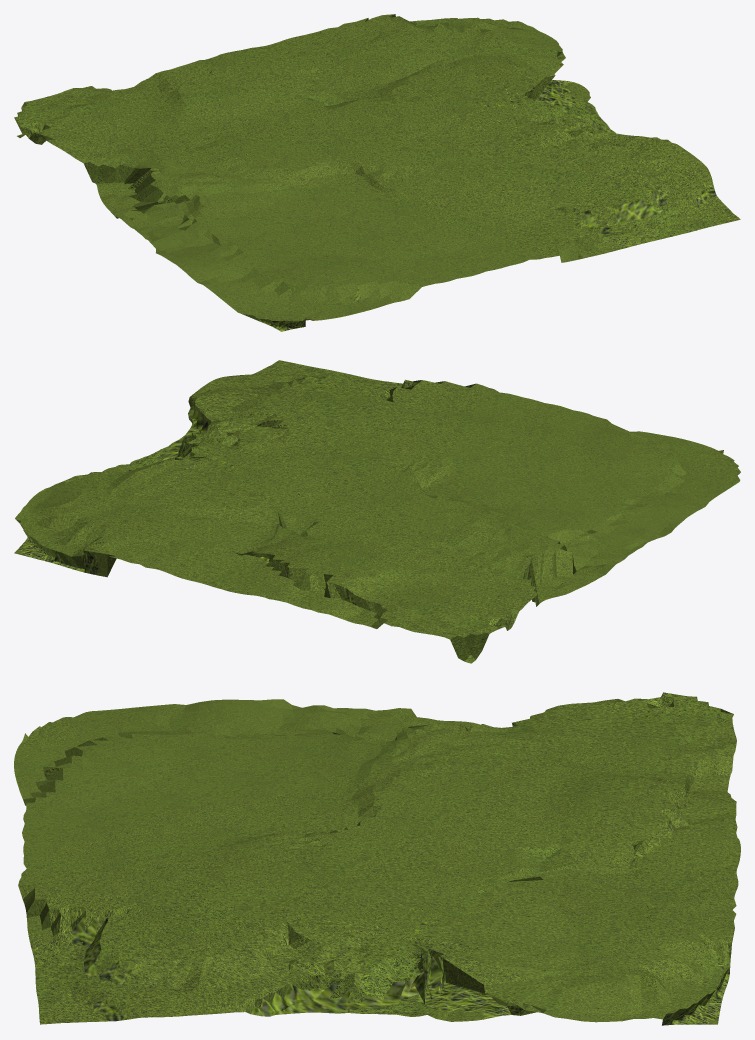
Rendered from FLOOR2.fbx.
The picture shows the model from 3 angles, top to bottom: view 1: azimuth 30°, elevation 25°; view 2: azimuth 150°, elevation 25°; view 3: azimuth 270°, elevation 25°; orthographic projection. The views are drawn at different scales.
Parts seen in each view (by area): view 1: Plane; view 2: Plane; view 3: Plane.
Boxes of the visible parts, x1,y1,x2,y2 form: Plane: [14, 14, 740, 331]; Plane: [14, 360, 740, 663]; Plane: [14, 692, 740, 1025].
Size of the model in its own units: 113 by 7.66 by 108.
Materials: 1 (1 with a texture image).
